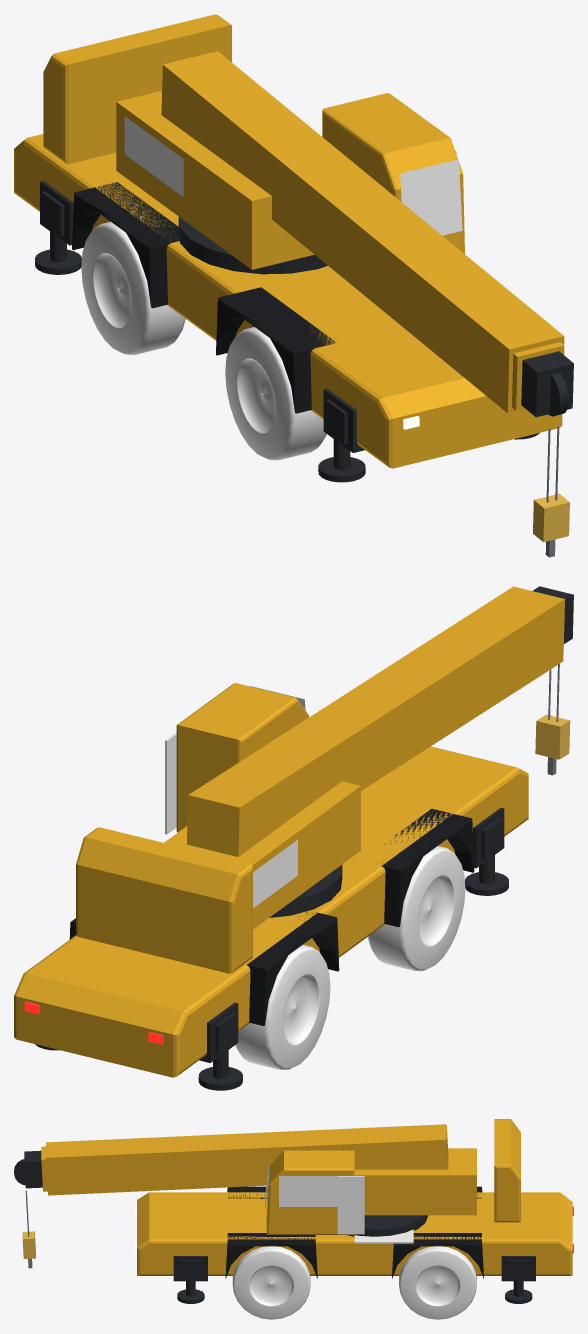
The model's file is equipment--mobileCrane.glb.
3 views of the same model, one above another, from view 1: azimuth 30°, elevation 25°; view 2: azimuth 150°, elevation 25°; view 3: azimuth 270°, elevation 25° (orthographic). The views are drawn at different scales.
Parts seen in each view (by area): view 1: mobileCrane:shell, boom, house, counterweight, axleRear, axleFront, boomHead, outriggerRR, hook, outriggerFR, boomSection2; view 2: mobileCrane:shell, boom, counterweight, house, axleFront, axleRear, outriggerRR, outriggerFR, hook, cabDoor, boomHead; view 3: mobileCrane:shell, boom, house, axleFront, axleRear, counterweight, cabDoor, outriggerRL, boomHead, outriggerFL, hook.
Part boxes in pixels (x1,y1,x2,y2): mobileCrane:shell: [14, 134, 562, 468]; boom: [161, 51, 564, 413]; house: [116, 91, 464, 274]; counterweight: [43, 14, 231, 164]; axleRear: [81, 221, 185, 354]; axleFront: [225, 327, 326, 460]; boomHead: [521, 351, 573, 417]; outriggerRR: [35, 191, 81, 274]; hook: [533, 426, 569, 557]; outriggerFR: [318, 399, 365, 482]; boomSection2: [511, 342, 564, 410]; mobileCrane:shell: [14, 746, 528, 1077]; boom: [186, 586, 564, 856]; counterweight: [76, 827, 252, 973]; house: [164, 683, 360, 929]; axleFront: [367, 846, 465, 971]; axleRear: [235, 945, 330, 1069]; outriggerRR: [198, 1012, 242, 1090]; outriggerFR: [465, 817, 508, 895]; hook: [535, 664, 570, 775]; cabDoor: [165, 732, 176, 834]; boomHead: [533, 586, 573, 643]; mobileCrane:shell: [137, 1186, 572, 1281]; boom: [46, 1124, 448, 1195]; house: [265, 1148, 476, 1236]; axleFront: [232, 1246, 310, 1319]; axleRear: [399, 1246, 476, 1319]; counterweight: [494, 1119, 520, 1222]; cabDoor: [337, 1176, 364, 1234]; outriggerRL: [505, 1260, 532, 1303]; boomHead: [14, 1150, 42, 1188]; outriggerFL: [177, 1260, 204, 1303]; hook: [22, 1190, 35, 1268].
Bounding box in the file's own units: 2.96 × 3.49 × 11.45.
